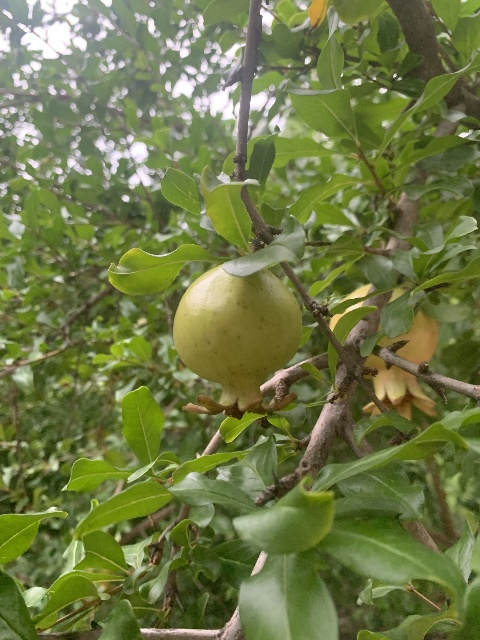mid-growth: (172, 262, 304, 420), (329, 282, 440, 422)
